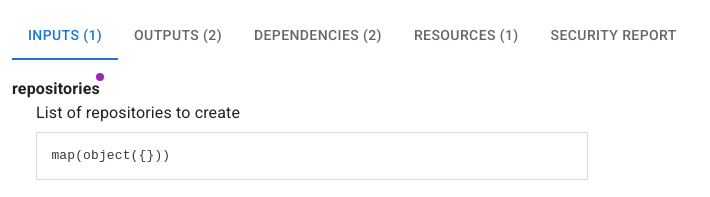
Test: <ModuleAnalysisTab /> › clicking "Security Report" tab shows "No report available" when reports is null
Click the tab "Security Report".
click(614, 36)  # box [535,12,693,60]
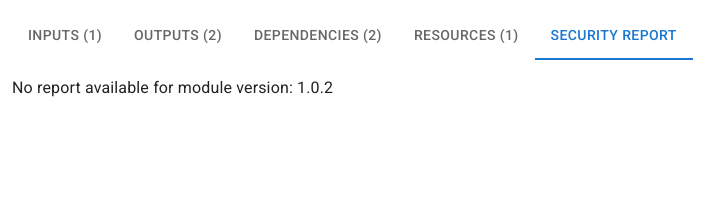
expect the text "No report available for module version: 1.0.2" is shown: met, box [12,78,333,97]
